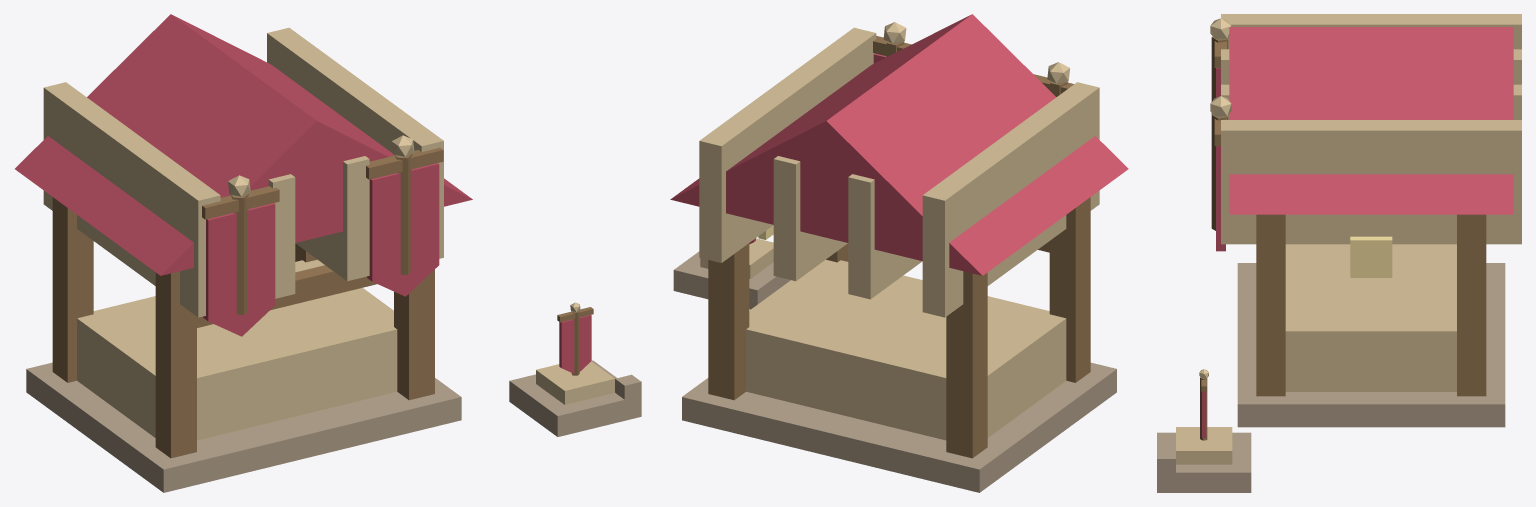
Rendered from medieval-landmark-s2c.glb.
3 views of the same model, side by side, from view 1: azimuth 30°, elevation 25°; view 2: azimuth 150°, elevation 25°; view 3: azimuth 270°, elevation 25° (orthographic). The views are drawn at different scales.
Visible parts, largest first — view 1: medieval-landmark-s2c; view 2: medieval-landmark-s2c; view 3: medieval-landmark-s2c.
Part boxes in pixels (x1,y1,x2,y2): medieval-landmark-s2c: (15, 14, 641, 492); medieval-landmark-s2c: (670, 14, 1128, 492); medieval-landmark-s2c: (1157, 14, 1521, 492).
Bounding box in the file's own units: 1.19 × 0.87 × 0.8725.
